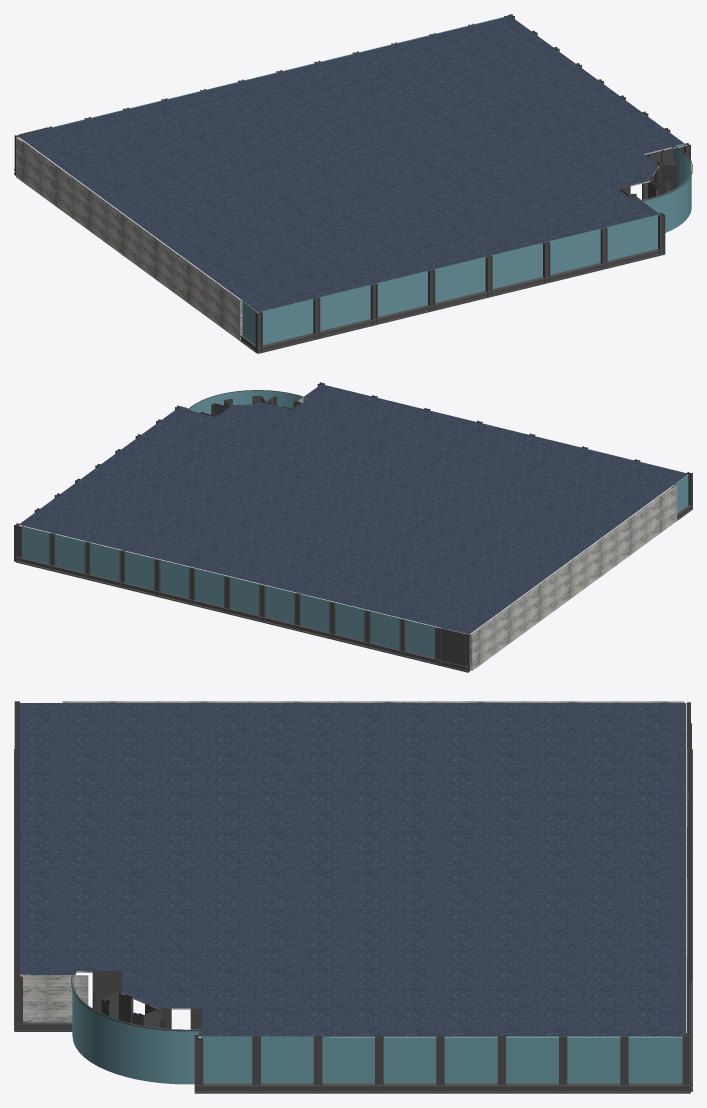
The model's file is office2_midle.FBX.
The picture shows the model from 3 angles, top to bottom: view 1: azimuth 30°, elevation 25°; view 2: azimuth 150°, elevation 25°; view 3: azimuth 270°, elevation 25°; orthographic projection. The views are drawn at different scales.
Visible parts, largest first — view 1: floor001, glass, walls001, structure, ceiling001; view 2: floor001, glass, structure, walls001, ceiling001; view 3: floor001, glass, structure, walls001.
Part boxes in pixels (x1,y1,x2,y2): floor001: (18,16,685,311); glass: (52,16,691,344); walls001: (16,137,652,340); structure: (14,14,692,353); ceiling001: (19,137,686,312); floor001: (19,384,688,634); glass: (22,390,688,657); structure: (14,382,692,672); walls001: (298,390,677,670); ceiling001: (19,397,686,634); floor001: (20,703,686,1036); glass: (72,792,689,1084); structure: (14,701,692,1093); walls001: (22,701,684,1022).
Size of the model in its own units: 7182 by 569 by 6104.
